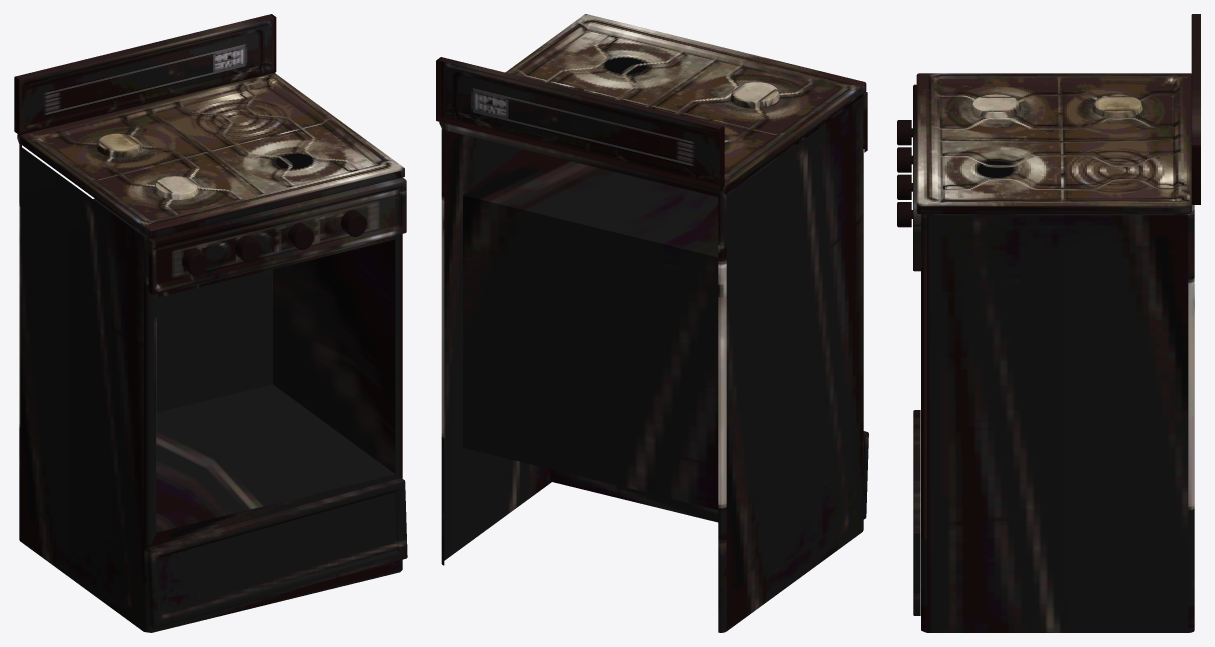
File: Cocina_Horno.fbx
3 renders of one model, left to right at view 1: azimuth 30°, elevation 25°; view 2: azimuth 150°, elevation 25°; view 3: azimuth 270°, elevation 25°, orthographic. The views are drawn at different scales.
Parts seen in each view (by area): view 1: Cocina; view 2: Cocina; view 3: Cocina.
Boxes of the visible parts, x1,y1,x2,y2 form: Cocina: [14, 14, 407, 632]; Cocina: [436, 14, 868, 632]; Cocina: [897, 14, 1200, 632].
Bounding box in the file's own units: 0.5867 × 1 × 0.5662.
